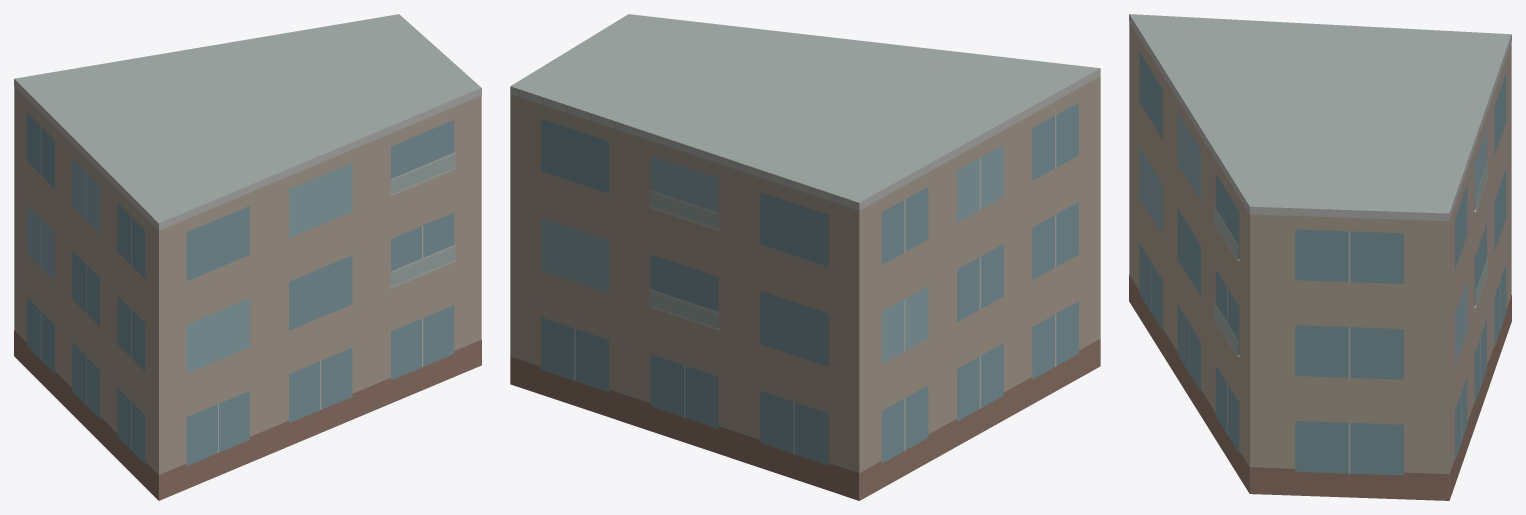
Rendered from survey-upis-32546514.glb.
3 renders of one model, left to right at view 1: azimuth 30°, elevation 25°; view 2: azimuth 150°, elevation 25°; view 3: azimuth 270°, elevation 25°, orthographic. The views are drawn at different scales.
Parts seen in each view (by area): view 1: survey-upis-32546514.tmp; view 2: survey-upis-32546514.tmp; view 3: survey-upis-32546514.tmp.
Part boxes in pixels (x1,y1,x2,y2): survey-upis-32546514.tmp: (14, 14, 481, 500); survey-upis-32546514.tmp: (510, 14, 1100, 500); survey-upis-32546514.tmp: (1129, 14, 1511, 500).
Size of the model in its own units: 13.64 by 9.15 by 11.05.
